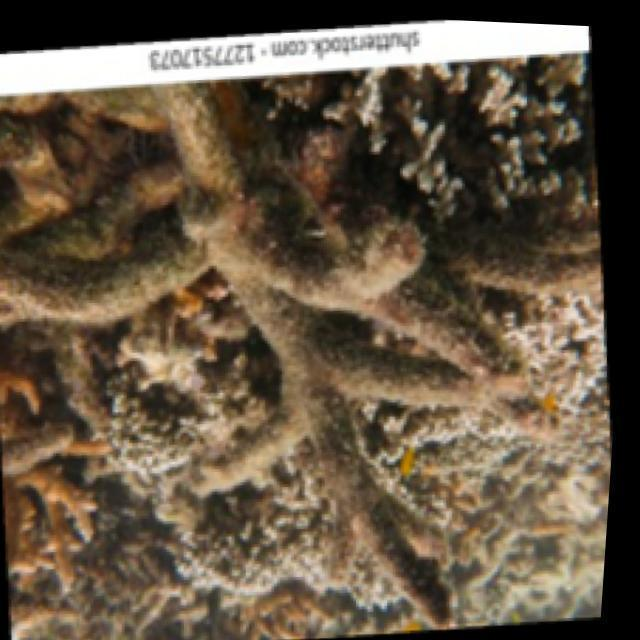Dead Coral: (7, 74, 612, 640)
